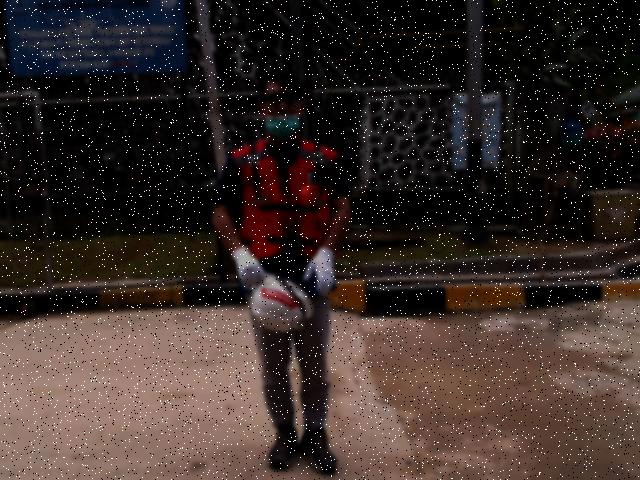glasses: (262, 93, 302, 106)
gloves: (303, 247, 338, 296), (233, 247, 265, 287)
helmet: (252, 273, 314, 335)
mask: (267, 115, 299, 141)
safety-shoes: (300, 426, 339, 475), (267, 422, 296, 473)
vest: (241, 186, 328, 260)
